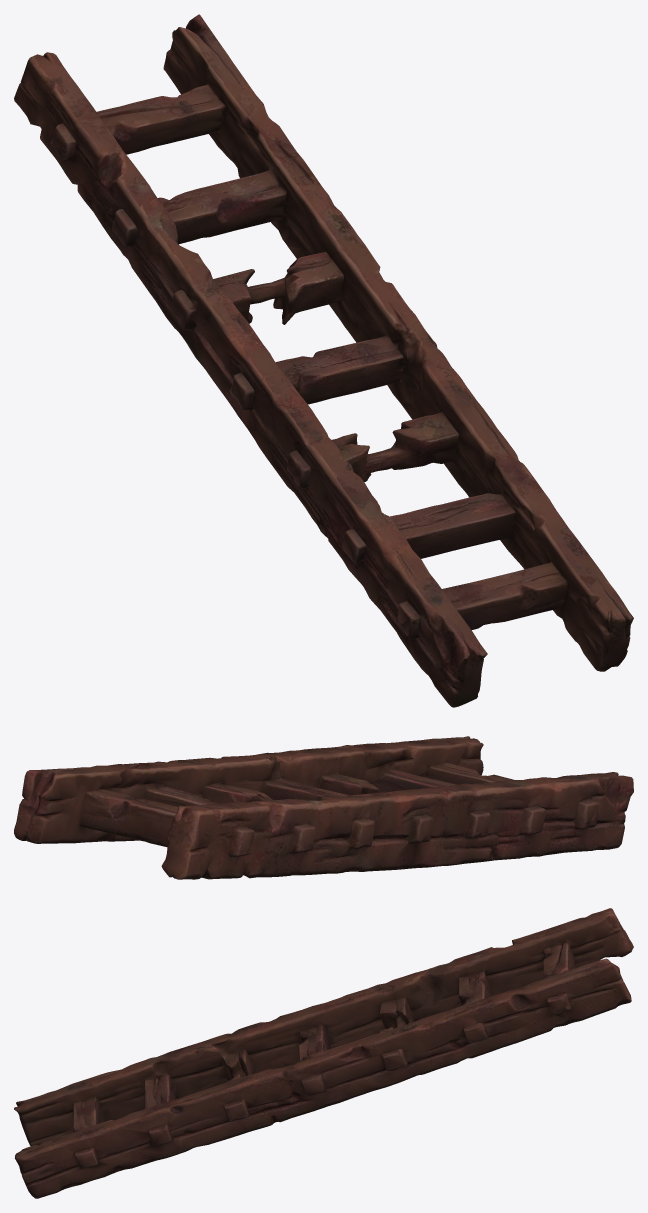
The model's file is mine_ladder_b_idle.glb.
The picture shows the model from 3 angles, top to bottom: view 1: azimuth 30°, elevation 25°; view 2: azimuth 150°, elevation 25°; view 3: azimuth 270°, elevation 25°; orthographic projection. The views are drawn at different scales.
Parts seen in each view (by area): view 1: tripo_node_189b7401-ef57-4b4e-b1ef-84bd170caf33; view 2: tripo_node_189b7401-ef57-4b4e-b1ef-84bd170caf33; view 3: tripo_node_189b7401-ef57-4b4e-b1ef-84bd170caf33.
Boxes of the visible parts, x1,y1,x2,y2 form: tripo_node_189b7401-ef57-4b4e-b1ef-84bd170caf33: (14, 14, 633, 707); tripo_node_189b7401-ef57-4b4e-b1ef-84bd170caf33: (14, 736, 633, 879); tripo_node_189b7401-ef57-4b4e-b1ef-84bd170caf33: (14, 908, 633, 1198).
Bounding box in the file's own units: 1.73 × 3 × 7.13.
1 material, 1 textured.
